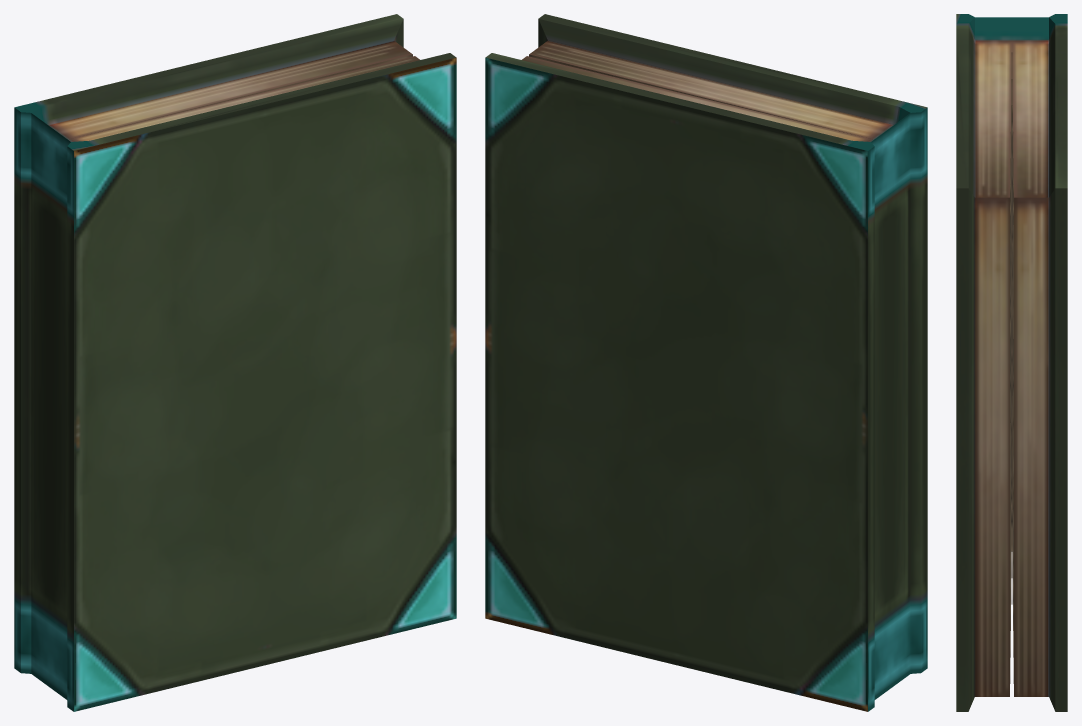
File: Aliena_Book.fbx
3 views of the same model, side by side, from view 1: azimuth 30°, elevation 25°; view 2: azimuth 150°, elevation 25°; view 3: azimuth 270°, elevation 25° (orthographic). The views are drawn at different scales.
Visible parts, largest first — view 1: Eileen01; view 2: Eileen01; view 3: Eileen01.
Part boxes in pixels (bbox=[...]): Eileen01: bbox=[14, 14, 456, 711]; Eileen01: bbox=[485, 14, 927, 711]; Eileen01: bbox=[956, 14, 1067, 711].
Bounding box in the file's own units: 11.76 × 16.47 × 3.17.
